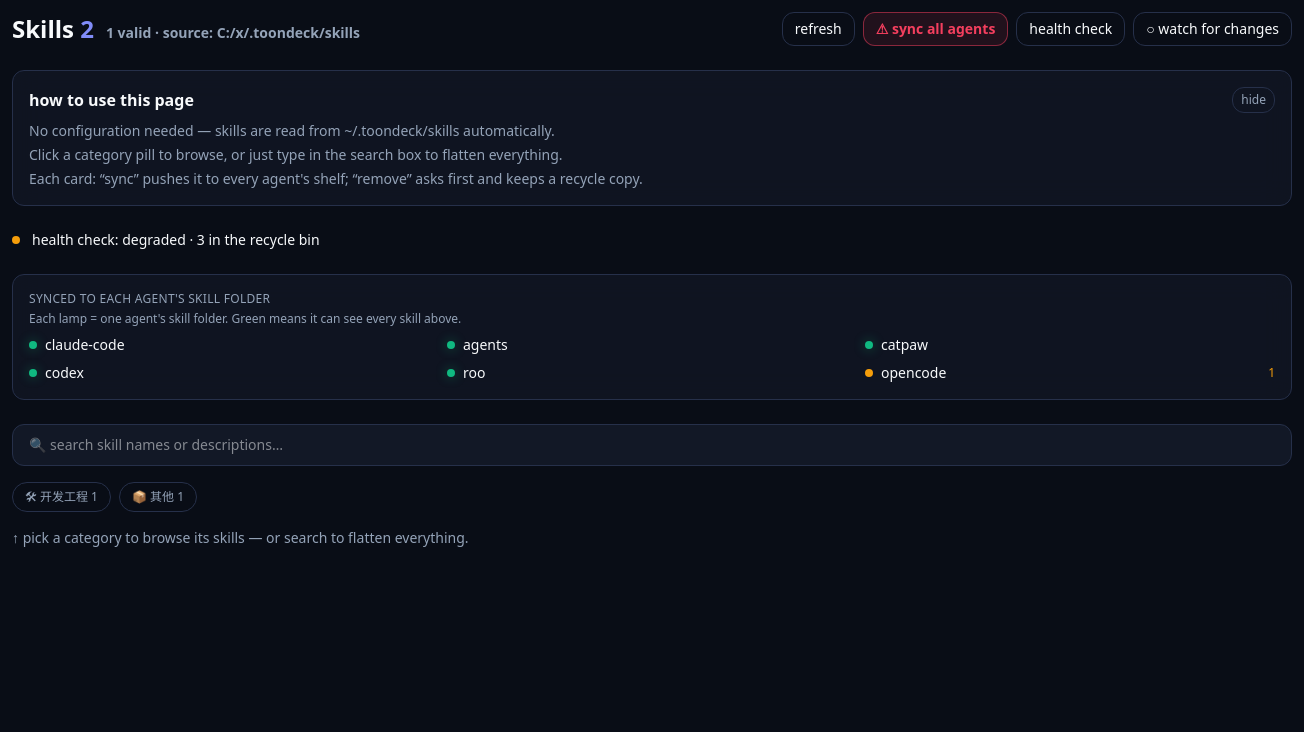
SkillsPanel › renders skill list with validity badges and view matrix
Step 1. Click the button with test id "category-pill-🛠 开发工程" → (61, 497), box [12,482,111,512]
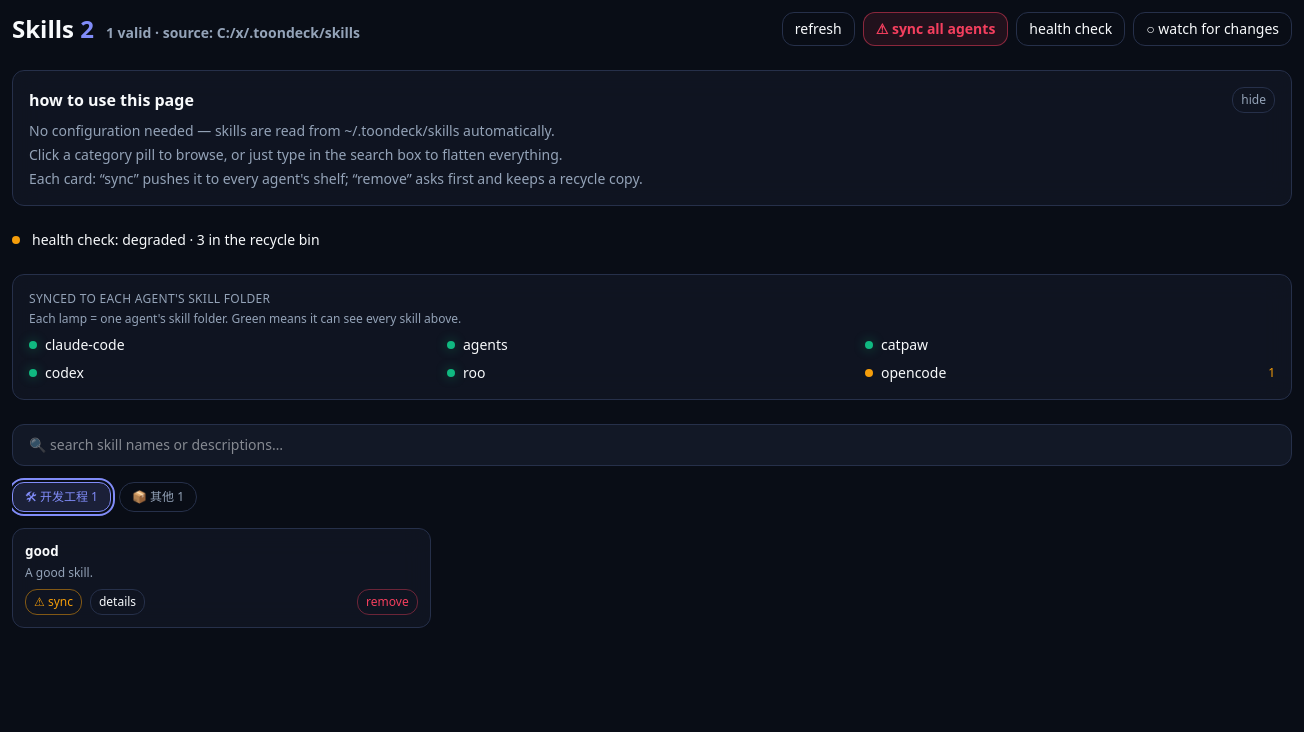
Expected: the text "synced to each agent's skill folder" is shown, [29,290,270,307]
Result: the text "good" is shown at [25,541,59,561]
Result: the text "A good skill." is shown at [25,564,93,581]
